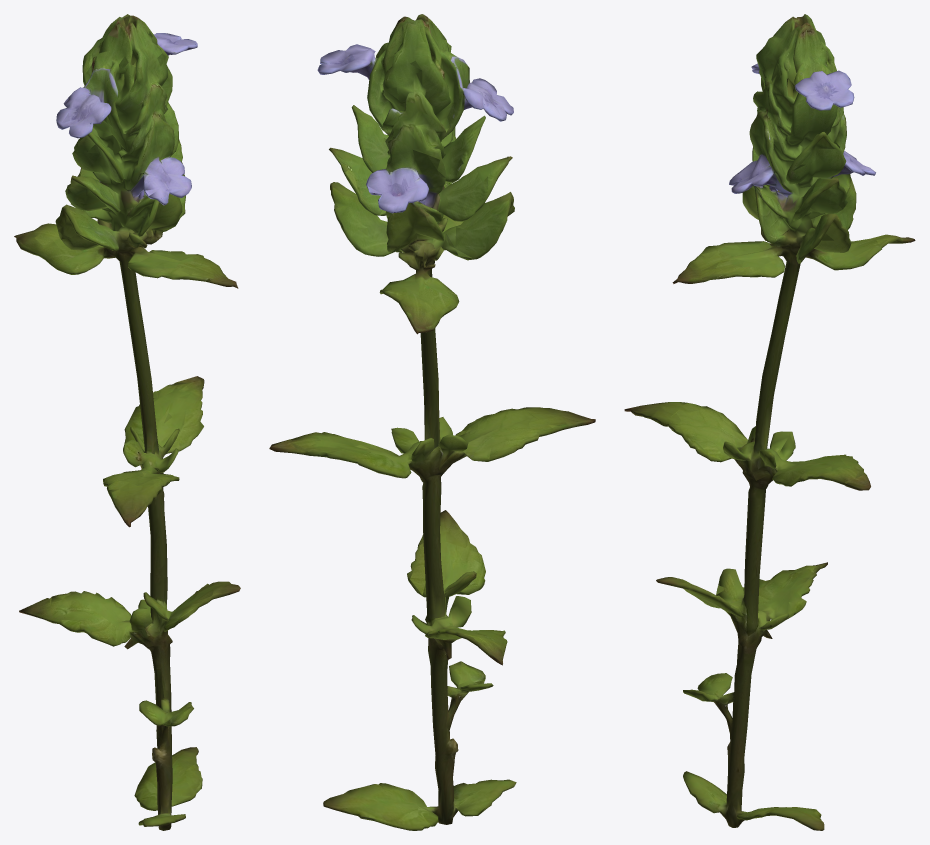
Rendered from flor_stelenes.fbx.
3 renders of one model, left to right at view 1: azimuth 30°, elevation 25°; view 2: azimuth 150°, elevation 25°; view 3: azimuth 270°, elevation 25°, orthographic. The views are drawn at different scales.
Parts seen in each view (by area): view 1: tripo_node_501e0da7; view 2: tripo_node_501e0da7; view 3: tripo_node_501e0da7.
Boxes of the visible parts, bbox=[...] form: tripo_node_501e0da7: bbox=[14, 14, 240, 830]; tripo_node_501e0da7: bbox=[269, 14, 595, 830]; tripo_node_501e0da7: bbox=[624, 14, 915, 830].
Bounding box in the file's own units: 2.22 × 8.29 × 2.71.
1 material, 1 textured.
